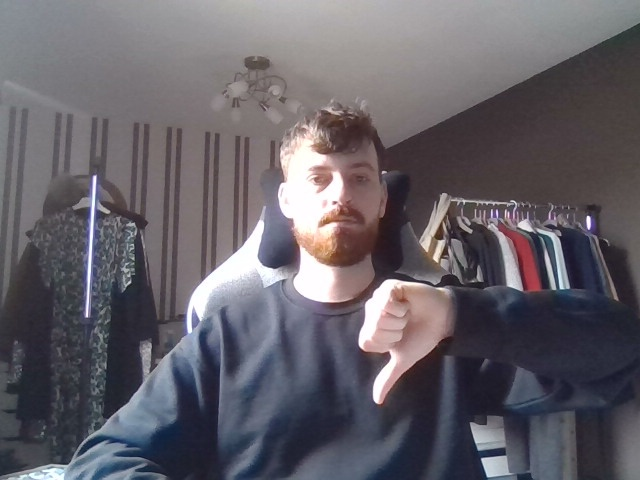Thumbs Down: (347, 267, 458, 410)
